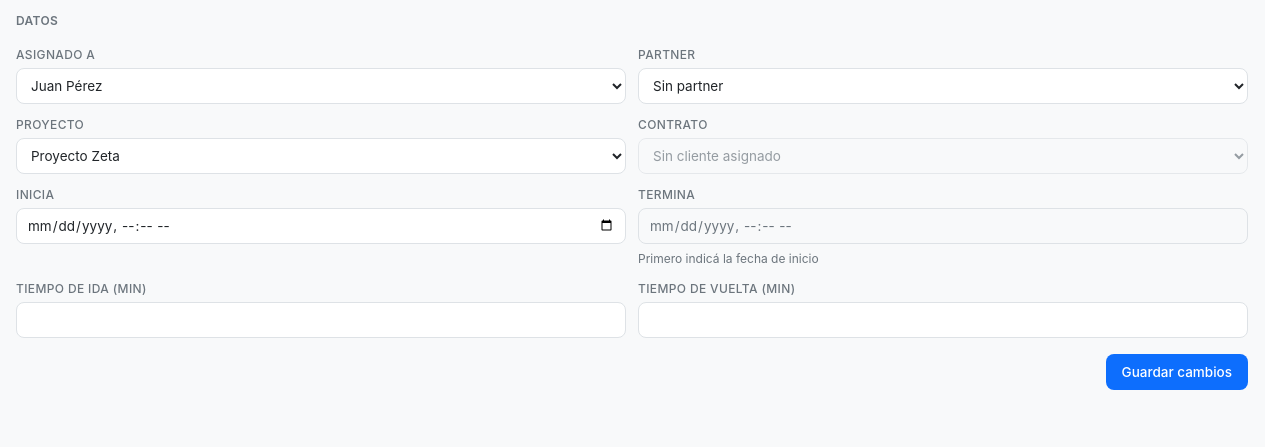
Test: DatosForm › IClass warning › disappears when user reverts to original project
Select "Proyecto Alpha" in the dropdown labelled "Proyecto" at (321, 156), box [16,138,626,174]
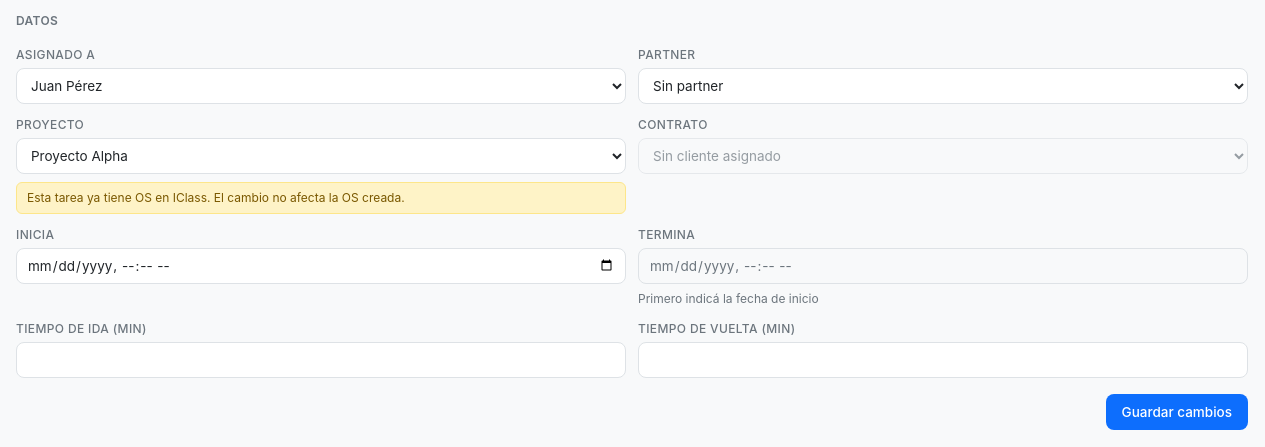
Result: the text "ya tiene OS en IClass" is shown at [27,190,405,205]
Select "Proyecto Zeta" in the dropdown labelled "Proyecto" at (321, 156), box [16,138,626,174]
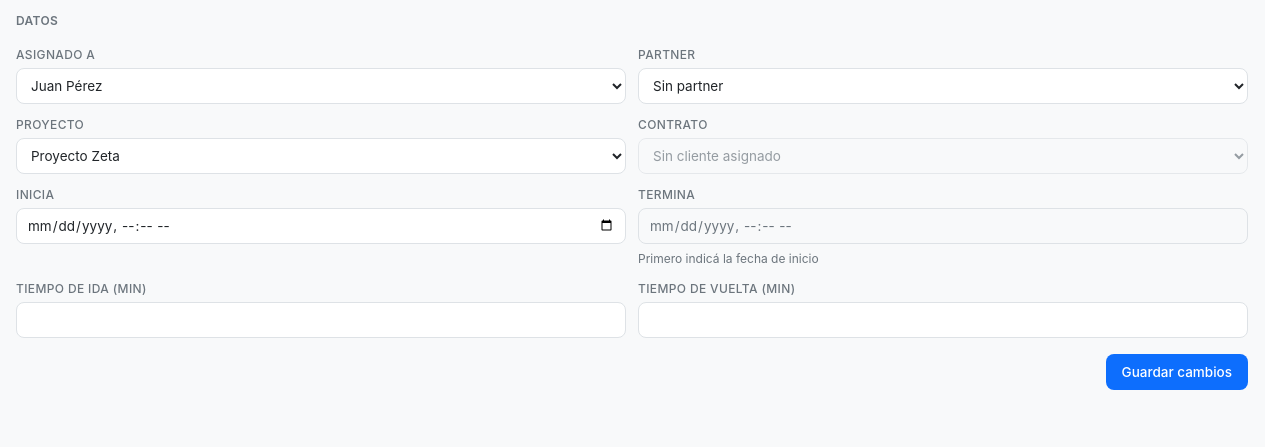
Result: the text "ya tiene OS en IClass" is gone
